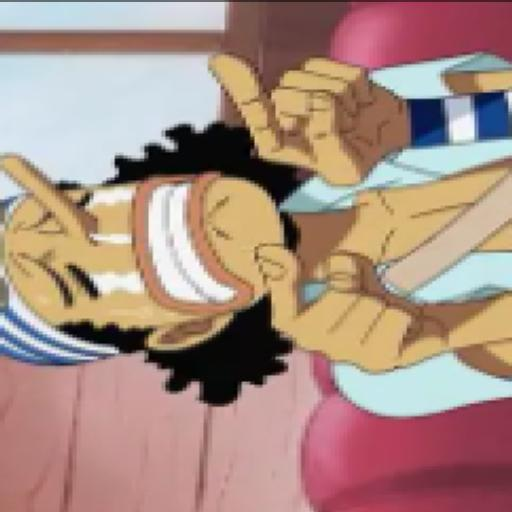Usopp: (0, 31, 511, 410)
